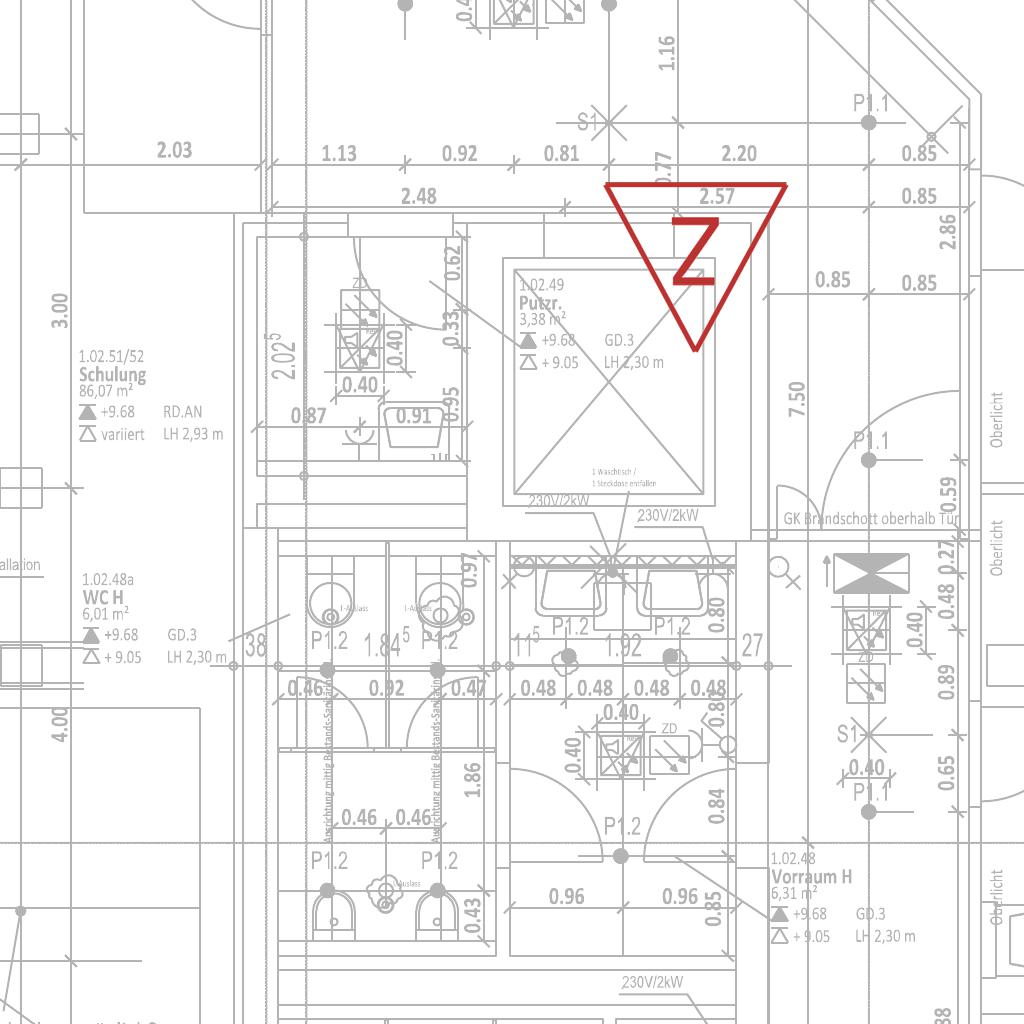Zimmersignalleuchte: (600, 167, 796, 367)
